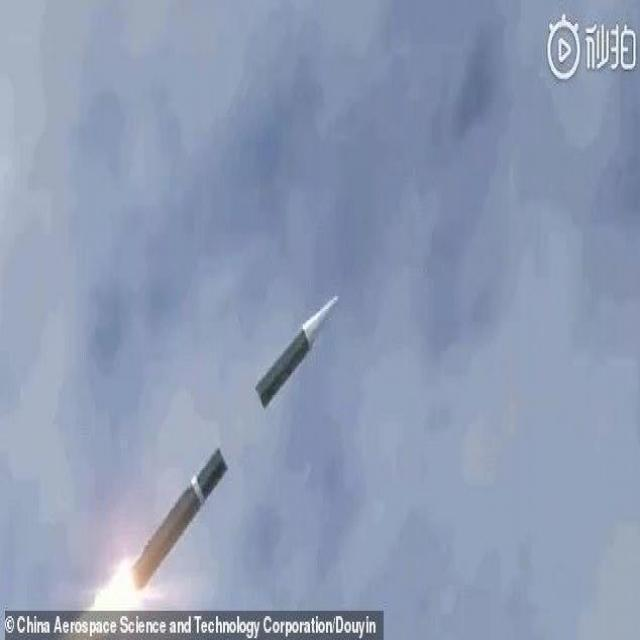Missile: (121, 287, 349, 605)
